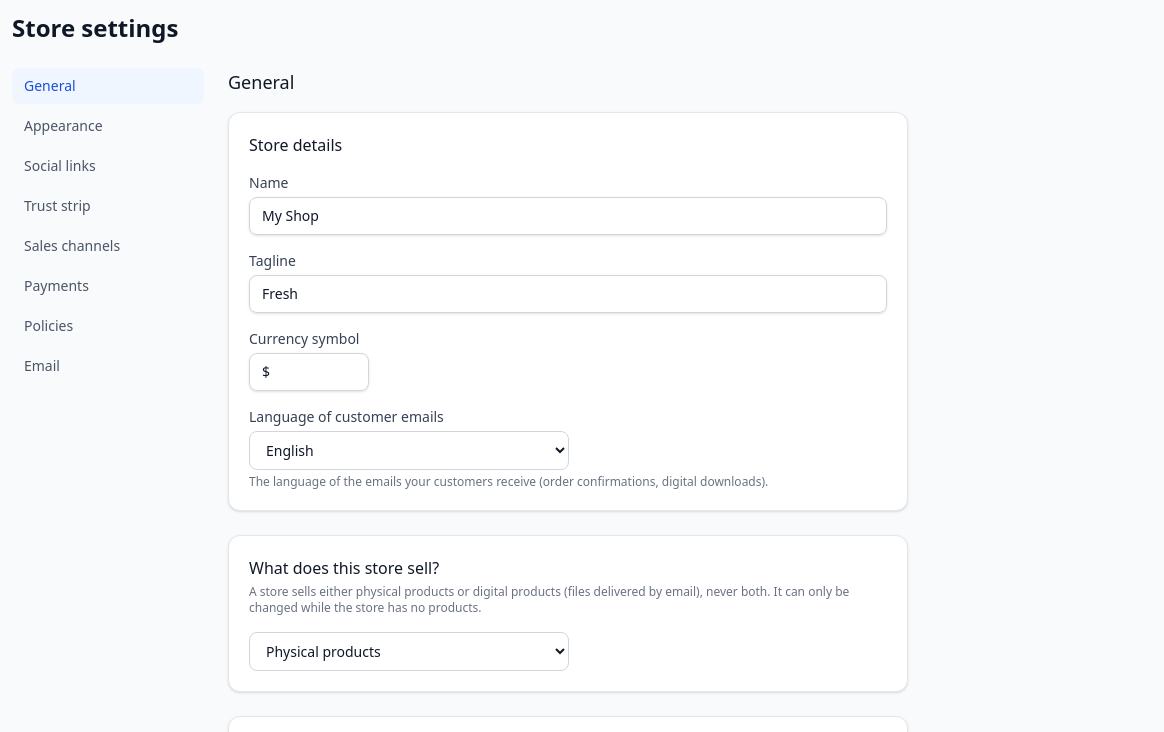
it: StoreSettingsPage index › asks before leaving a section with unsaved edits
Type " 2" into the field labelled "Name" at point(568, 216), box [249,197,887,235]
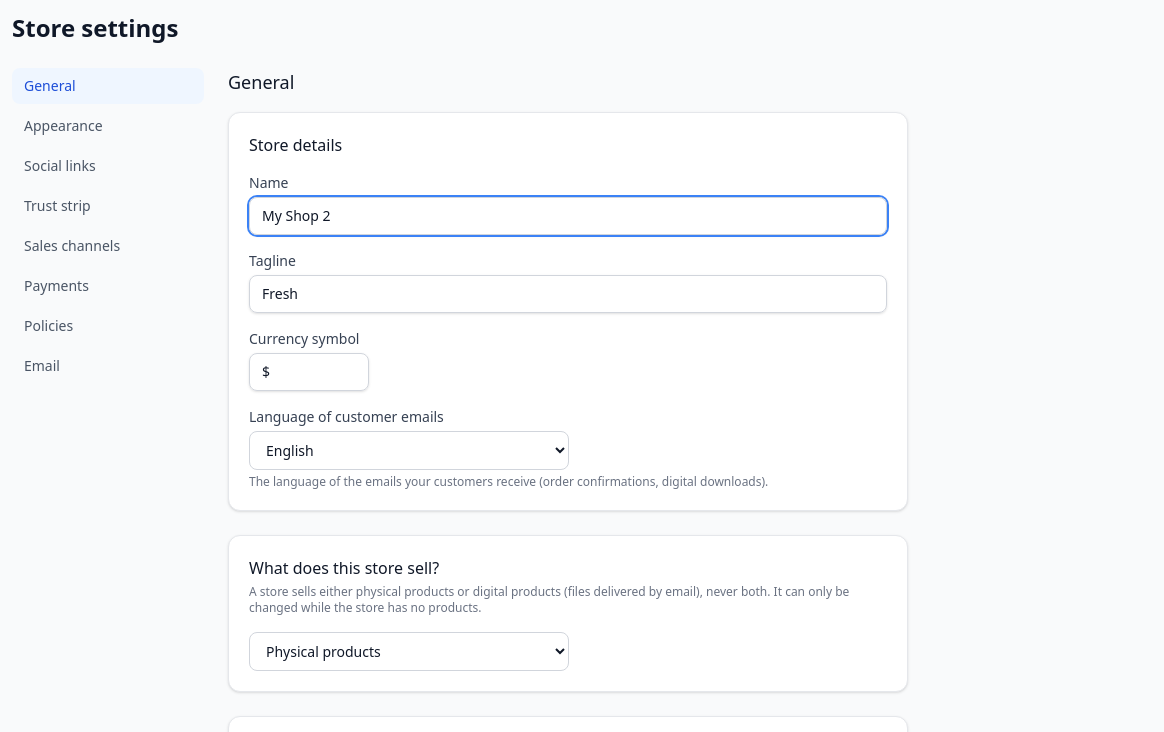
Click the button "Appearance" at point(108, 126), box [12,108,204,144]
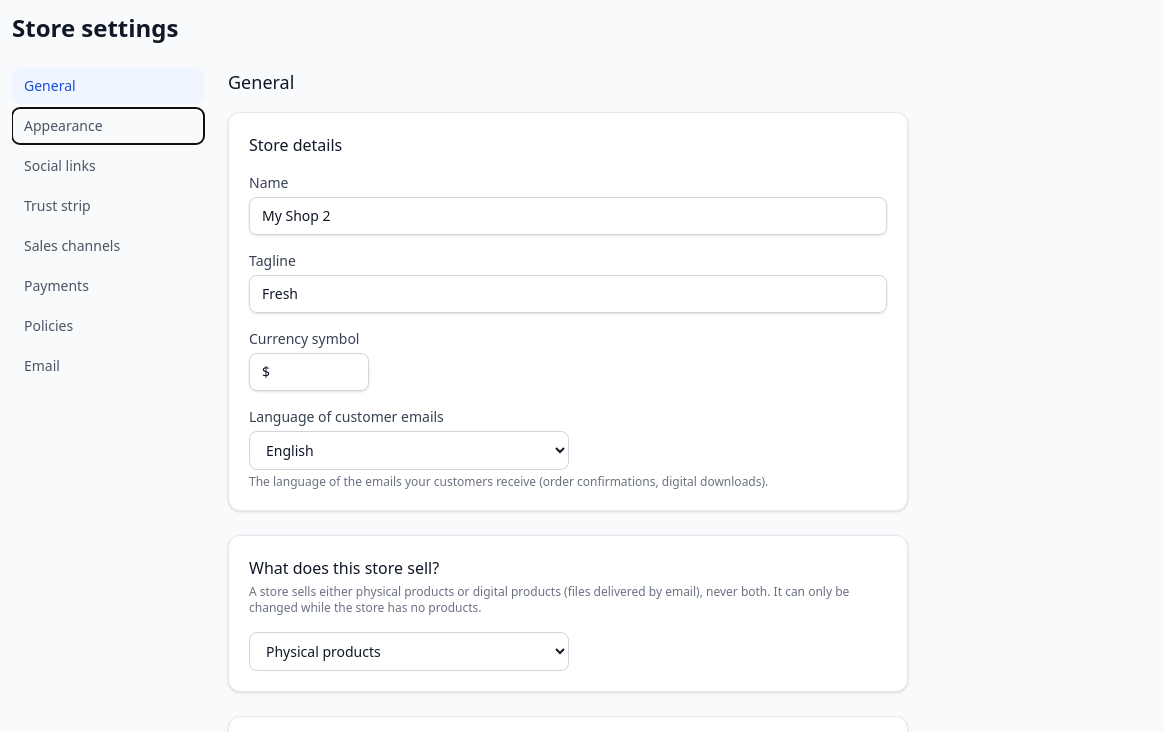
Expected: the field labelled "Name" is shown, [249,197,887,235]
Click the button "Appearance" at point(108, 126), box [12,108,204,144]
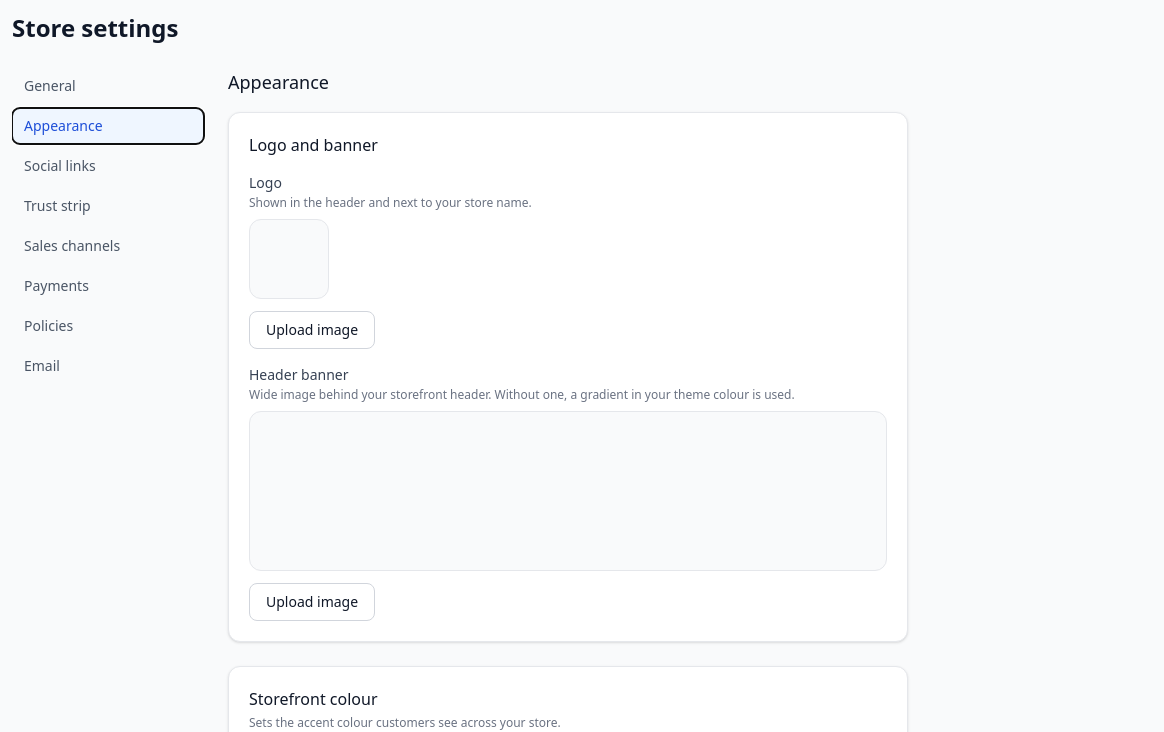
Now the text "Header banner" is shown, box [249,365,348,384]
